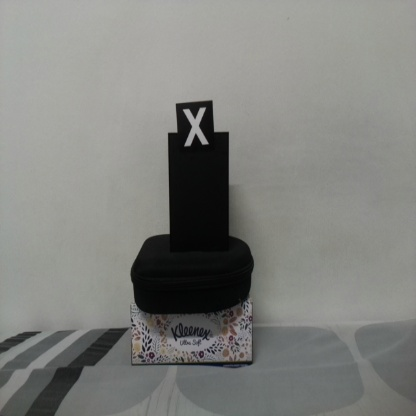id_13: (176, 104, 214, 157)
